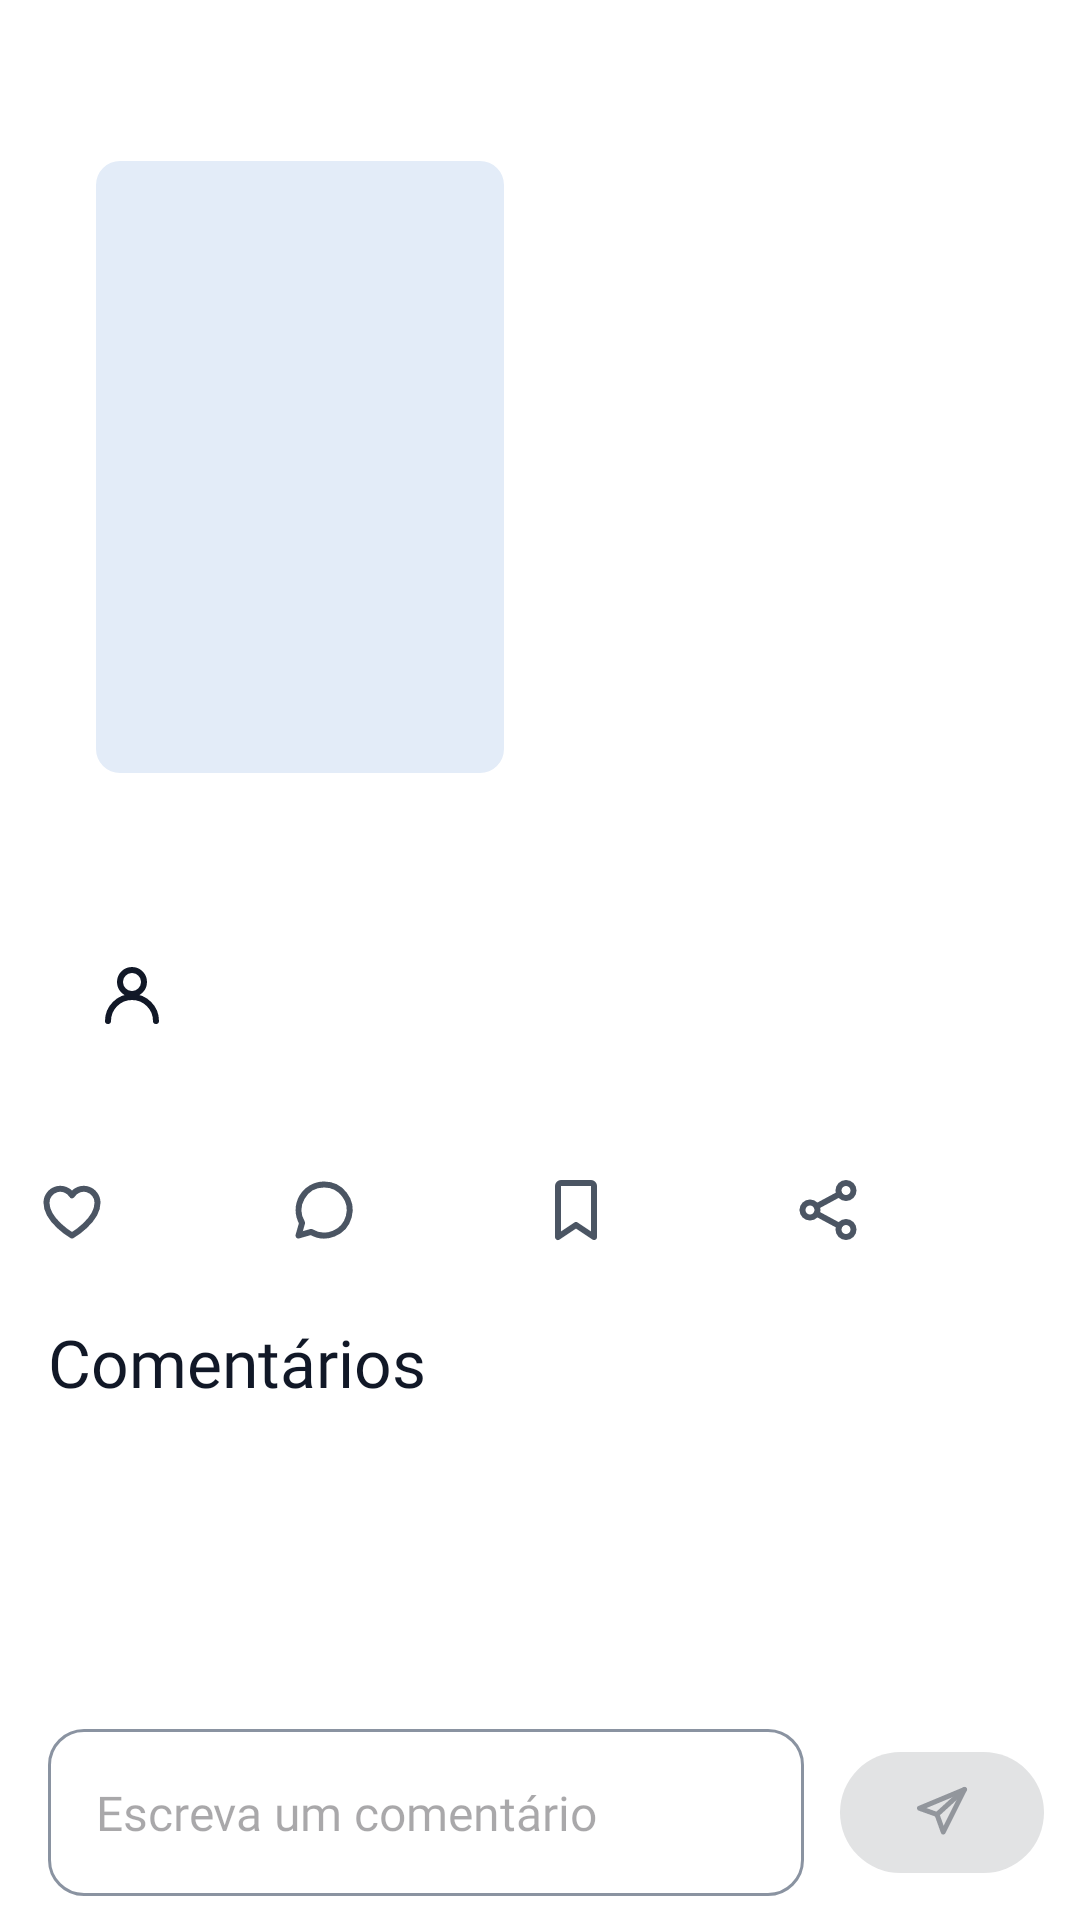

Icon bounding boxes for this 1080px x 1920px phone screenshot, format (x1, y1, x2, y2):
bookmark border: (555, 1180, 597, 1240)
comment: (295, 1181, 353, 1239)
Compartilhar: (799, 1180, 857, 1240)
Enviar comentário: (840, 1752, 1044, 1873)
favorite border: (43, 1185, 101, 1239)
